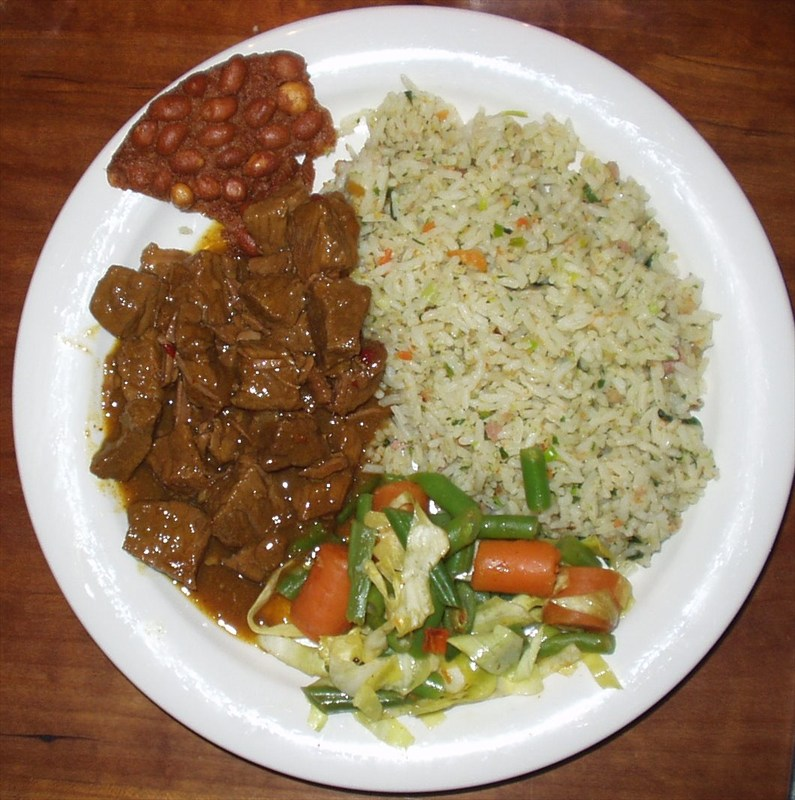Rendang: (42, 25, 728, 775)
